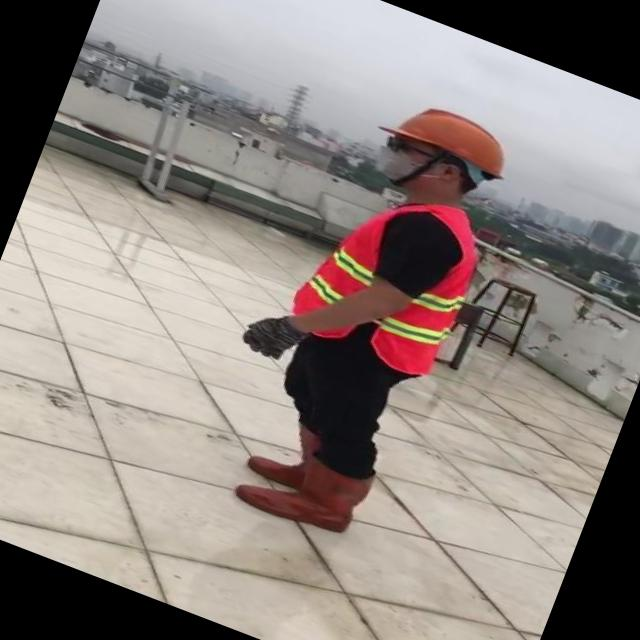hard_hat: (382, 90, 522, 186)
safety_vest: (280, 166, 494, 383)
vehicle: (167, 57, 545, 572)
work_boots: (235, 436, 372, 546), (240, 406, 362, 505)
